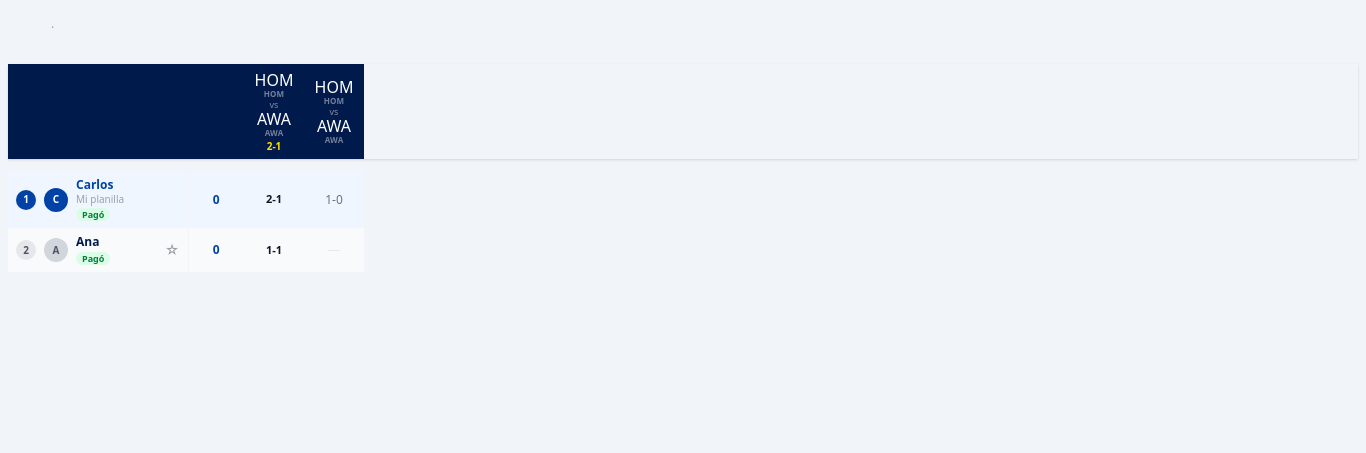
Test: Matriz — BetPopover › click en el contenedor principal cierra el popover
Expected: the text "Carlos" is shown, [76,176,113,193]
Click the button "2-1". click: x=274, y=199
box: [266,191,282,206]
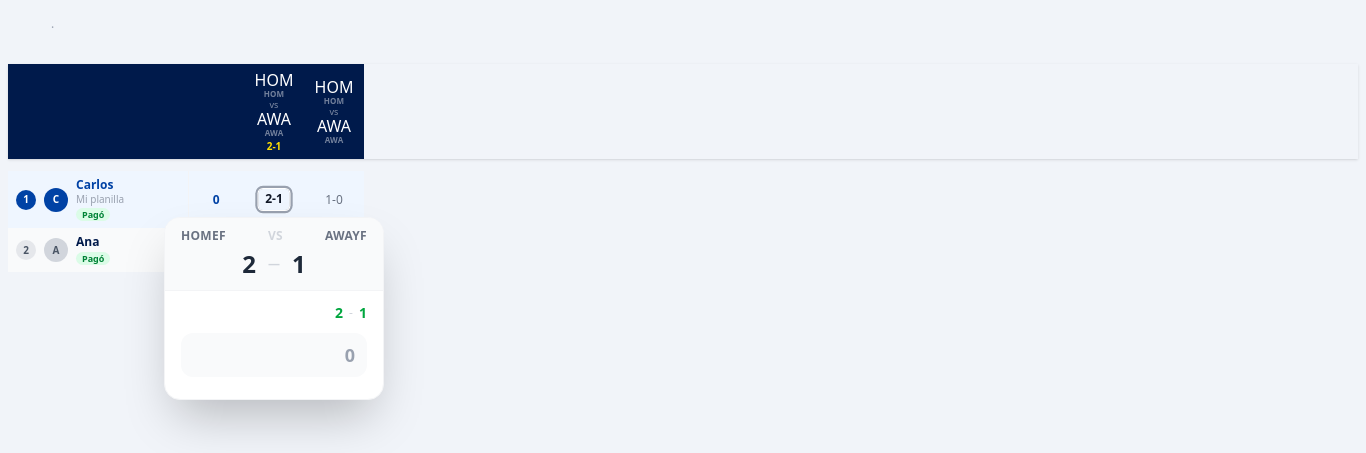
Expected: the text "HomeF" is shown, [181,228,226,244]
Click the element with class "space-y-3". click: x=55, y=12
box: [0,0,1365,288]
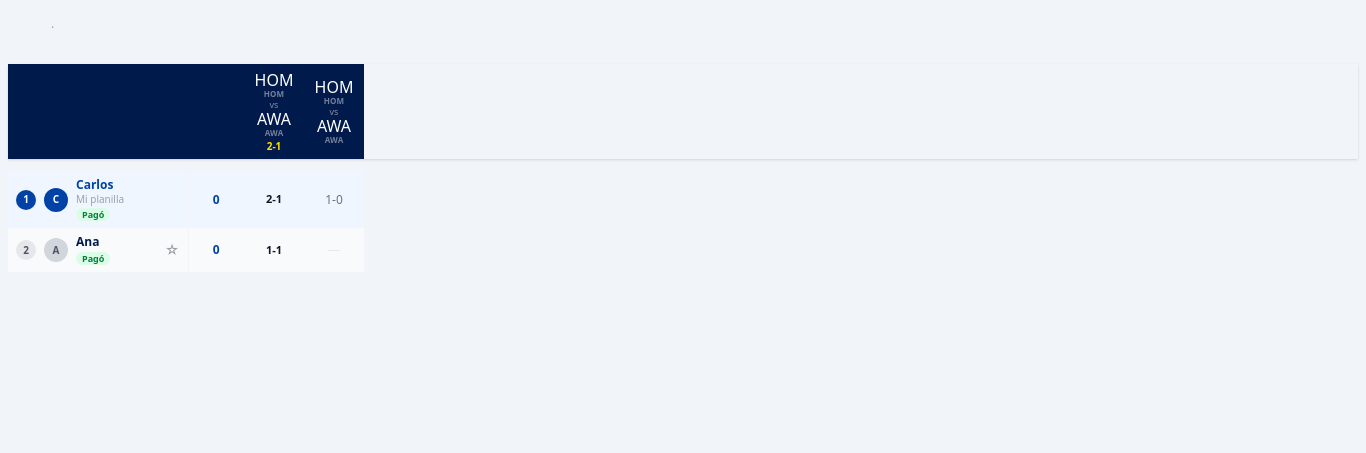
Expected: the text "HomeF" is gone
